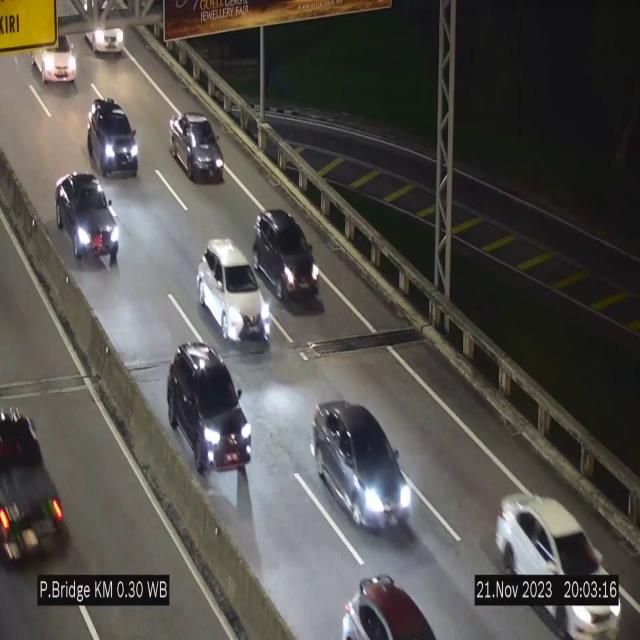Car: (496, 488, 628, 640), (0, 383, 74, 578), (313, 401, 415, 527), (166, 343, 252, 474), (326, 564, 444, 640), (197, 239, 269, 342), (254, 210, 326, 306), (55, 173, 118, 270), (29, 10, 85, 90), (168, 113, 224, 182), (88, 99, 138, 176), (84, 0, 132, 60)
